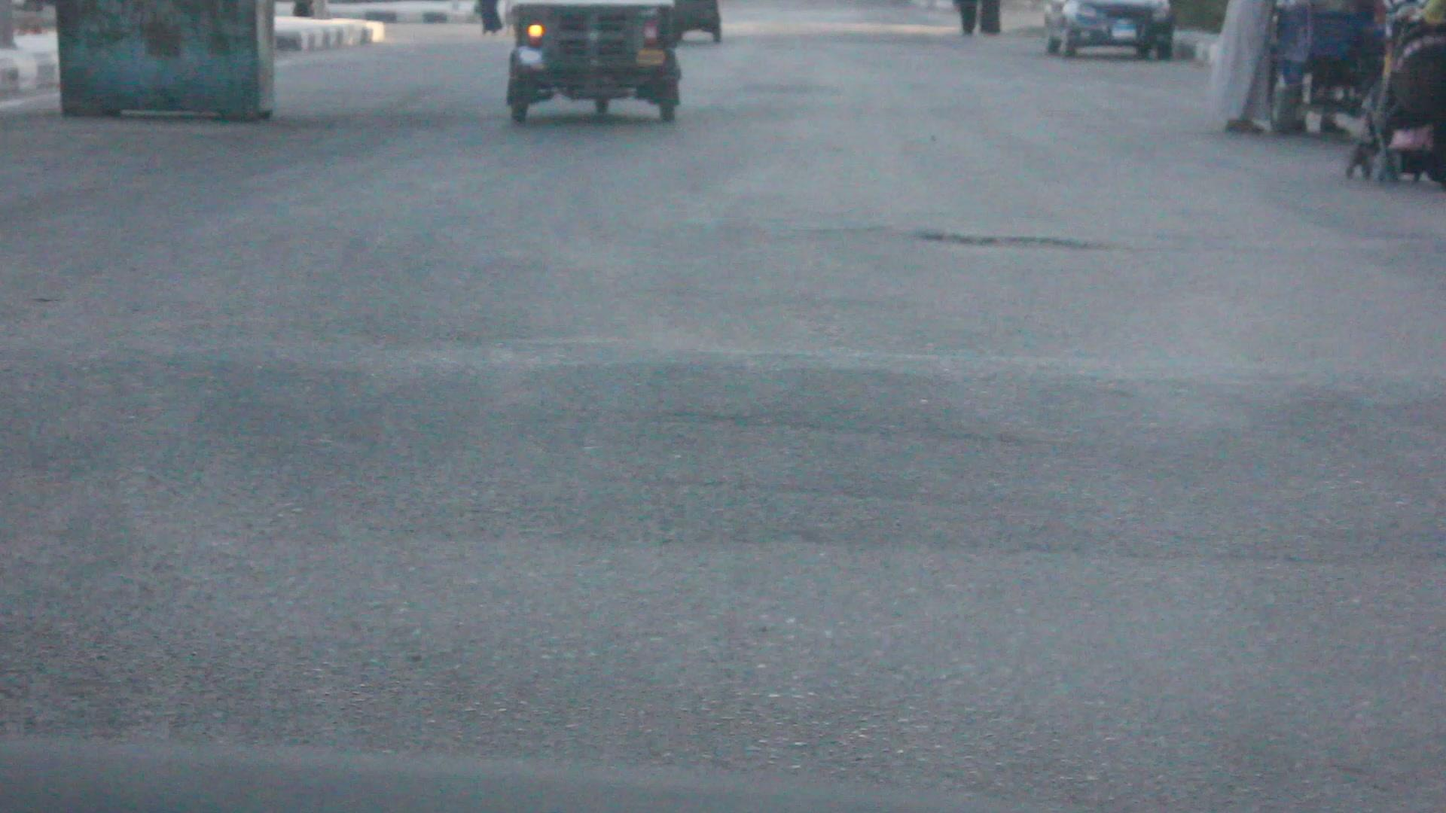Bump: (0, 350, 1442, 576)
Pothole: (906, 215, 1117, 267)
